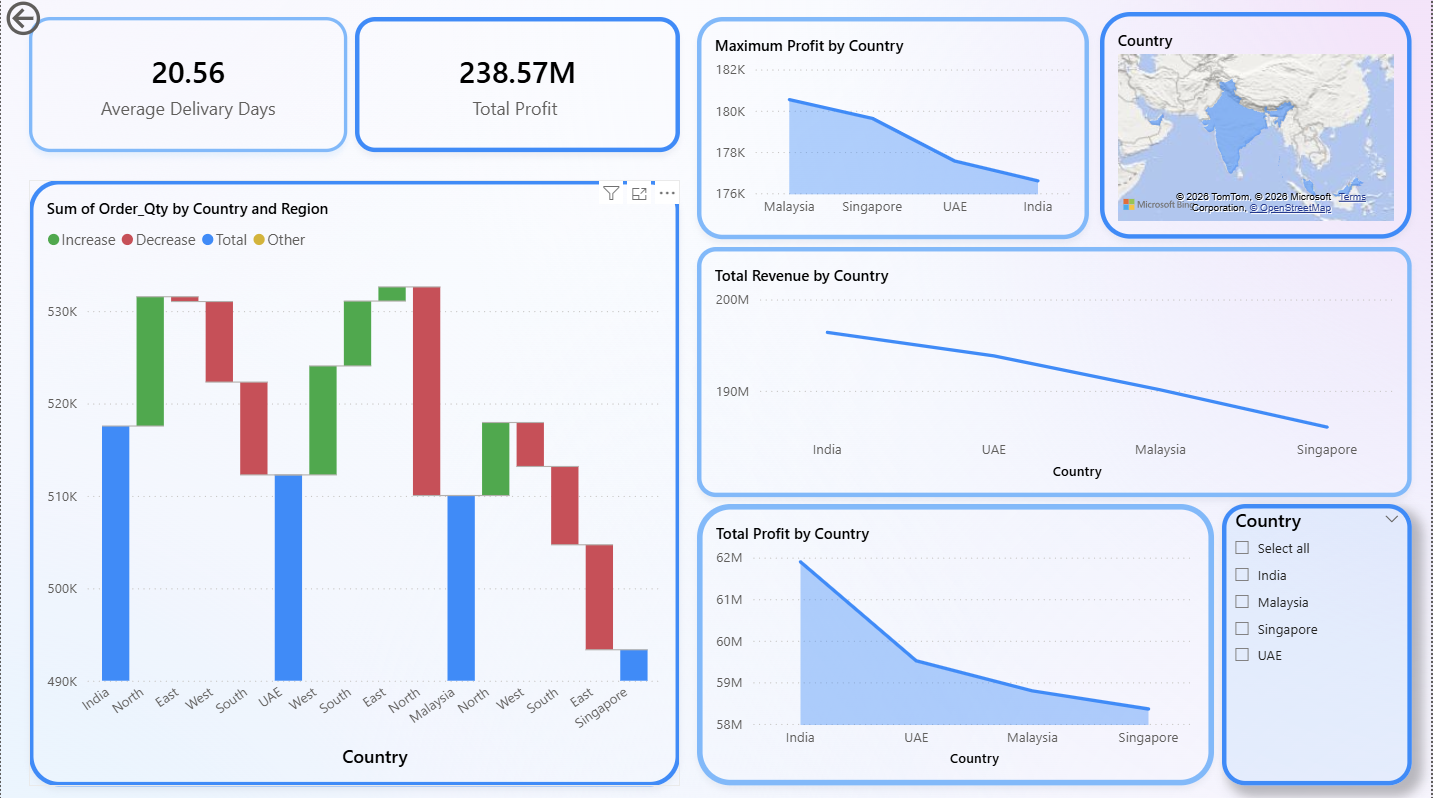

What the dashboard file says about the page in this screenshot:
{"tool":"powerbi","page":{"name":"Page 1","canvas":[1280,720],"ordinal":0},"visuals":[{"type":"card","fields":{"Values":["Dataset.Avg_delivary Days"]},"box":[25.3,18.5,285,120.6],"z":0},{"type":"slicer","fields":{"Values":["Dataset.Country"]},"box":[1093.3,455.2,170.2,251.9],"z":1000},{"type":"lineChart","fields":{"Category":["Dataset.Country"],"Y":["Sum(Dataset.Revenue)"]},"box":[623.5,224.7,640,223.7],"z":2000},{"type":"areaChart","fields":{"Category":["Dataset.Country"],"Y":["Max(Dataset.Profit)"]},"box":[623.3,18.8,351,198.8],"z":3000},{"type":"card","fields":{"Values":["Sum(Dataset.Profit)"]},"box":[317.1,18.5,290.8,120.6],"z":4000},{"type":"areaChart","fields":{"Category":["Dataset.Country"],"Y":["Sum(Dataset.Profit)"]},"box":[623.5,455.2,463,251.9],"z":5000},{"type":"waterfallChart","fields":{"Category":["Dataset.Country"],"Y":["Sum(Dataset.Order_Qty)"],"Breakdown":["Dataset.Region"]},"box":[25.3,164.4,582.6,542.7],"z":6000},{"type":"actionButton","box":[0,0,100,40],"z":7000},{"type":"filledMap","fields":{"Category":["Dataset.Country"]},"box":[984.2,14.3,279.4,203.3],"z":8000}]}

Visuals, with their boxes in screenshot pixels (x1, y1, x2, y2), scaled from the page's 1280x720 canvas onto the 1433x798 screenshot:
card - Dataset.Avg_delivary Days: <region>28, 21, 347, 154</region>
slicer - Dataset.Country: <region>1224, 505, 1415, 784</region>
lineChart - Dataset.Country x Sum(Dataset.Revenue): <region>698, 249, 1415, 497</region>
areaChart - Dataset.Country x Max(Dataset.Profit): <region>698, 21, 1091, 241</region>
card - Sum(Dataset.Profit): <region>355, 21, 681, 154</region>
areaChart - Dataset.Country x Sum(Dataset.Profit): <region>698, 505, 1216, 784</region>
waterfallChart - Dataset.Country x Sum(Dataset.Order_Qty): <region>28, 182, 681, 784</region>
actionButton: <region>0, 0, 112, 44</region>
filledMap - Dataset.Country: <region>1102, 16, 1415, 241</region>
